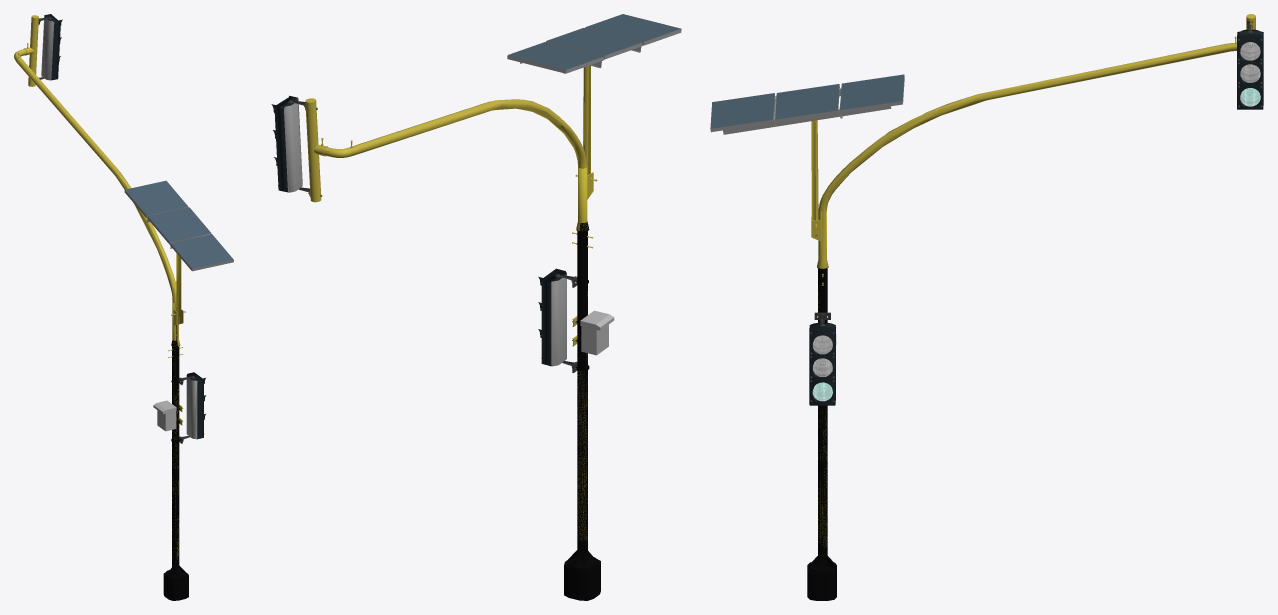
File: Traffic Light 2e (hanging).glb
3 views of the same model, side by side, from view 1: azimuth 30°, elevation 25°; view 2: azimuth 150°, elevation 25°; view 3: azimuth 270°, elevation 25° (orthographic). The views are drawn at different scales.
Visible parts, largest first — view 1: main, panel A, panel C, panel B, Cube.007, Cube.003, Cylinder.004, direct cable box, battery box; view 2: main, Cube.007, Cube.003, Cylinder.004, panel C, panel B, panel A, direct cable box, battery box; view 3: main, Cube.007, Cube.003, panel C, panel B, panel A, Cylinder.004, direct cable box, Brace A.
Part boxes in pixels (x1=…): main: x1=14, y1=15, x2=186, y2=579; panel A: x1=170, y1=234, x2=233, y2=271; panel C: x1=124, y1=180, x2=188, y2=217; panel B: x1=147, y1=207, x2=211, y2=244; Cube.007: x1=186, y1=372, x2=205, y2=439; Cube.003: x1=41, y1=14, x2=62, y2=80; Cylinder.004: x1=165, y1=253, x2=185, y2=579; direct cable box: x1=163, y1=572, x2=188, y2=600; battery box: x1=153, y1=400, x2=176, y2=431; main: x1=305, y1=66, x2=598, y2=569; Cube.007: x1=538, y1=268, x2=566, y2=366; Cube.003: x1=271, y1=95, x2=302, y2=192; Cylinder.004: x1=567, y1=65, x2=598, y2=569; panel C: x1=507, y1=42, x2=603, y2=73; panel B: x1=546, y1=28, x2=642, y2=59; panel A: x1=585, y1=14, x2=681, y2=45; direct cable box: x1=564, y1=559, x2=600, y2=600; battery box: x1=580, y1=310, x2=614, y2=355; main: x1=809, y1=14, x2=1255, y2=572; Cube.007: x1=809, y1=323, x2=835, y2=405; Cube.003: x1=1237, y1=29, x2=1263, y2=109; panel C: x1=840, y1=74, x2=904, y2=113; panel B: x1=775, y1=84, x2=839, y2=122; panel A: x1=710, y1=93, x2=775, y2=132; Cylinder.004: x1=808, y1=121, x2=836, y2=573; direct cable box: x1=807, y1=562, x2=836, y2=600; Brace A: x1=723, y1=88, x2=891, y2=134.
Bounding box in the file's own units: 3.19 × 17.5 × 14.79.
Materials: 38 (8 with a texture image).
